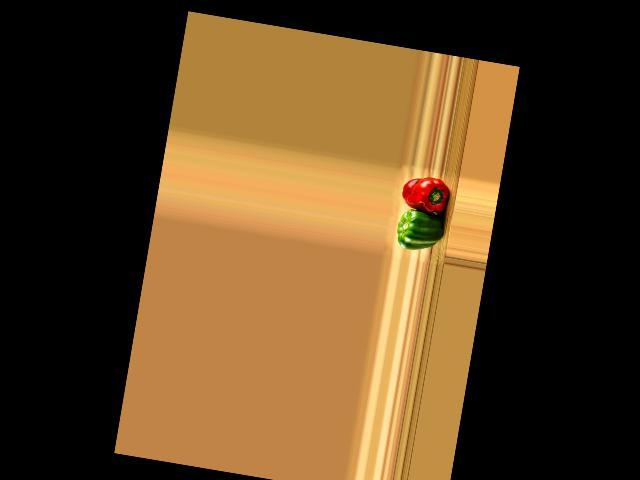bell_pepper: (399, 172, 451, 217)
